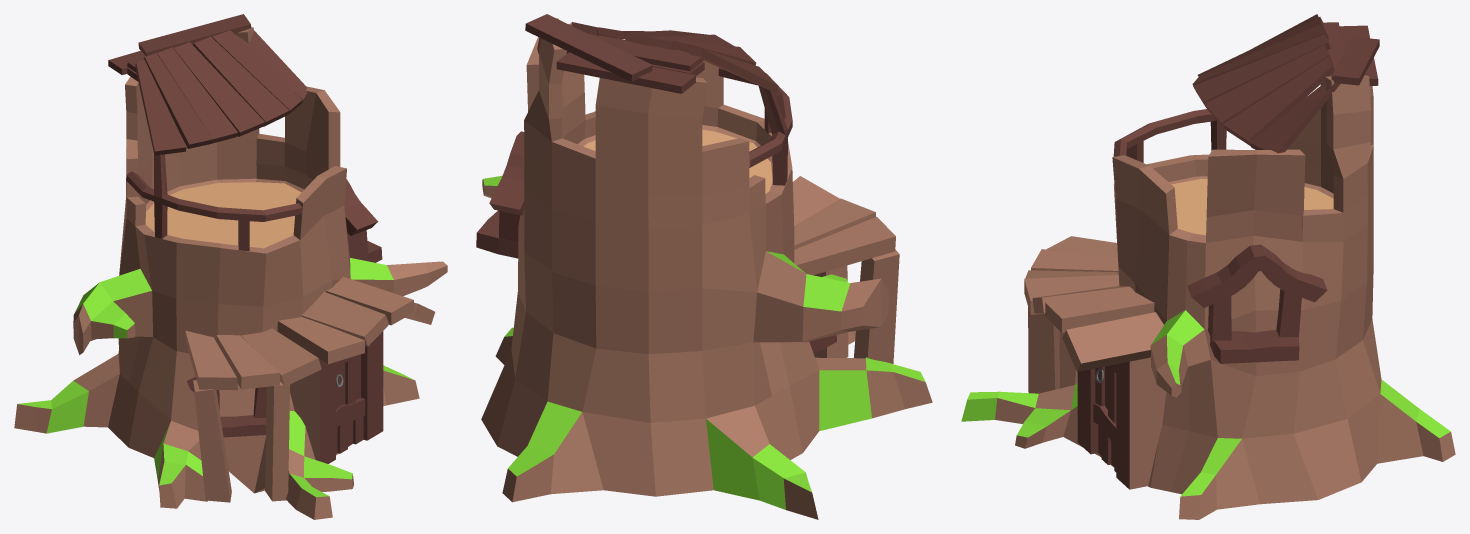
File: TreeHouse.fbx
3 views of the same model, side by side, from view 1: azimuth 30°, elevation 25°; view 2: azimuth 150°, elevation 25°; view 3: azimuth 270°, elevation 25° (orthographic). The views are drawn at different scales.
Visible parts, largest first — view 1: Cube.025; view 2: Cube.025; view 3: Cube.025.
Boxes of the visible parts, x1,y1,x2,y2 form: Cube.025: [14, 14, 447, 519]; Cube.025: [476, 14, 932, 519]; Cube.025: [961, 14, 1455, 519].
Size of the model in its own units: 483 by 486 by 523.
